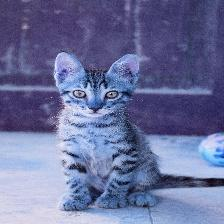kedo: (56, 52, 158, 210)
